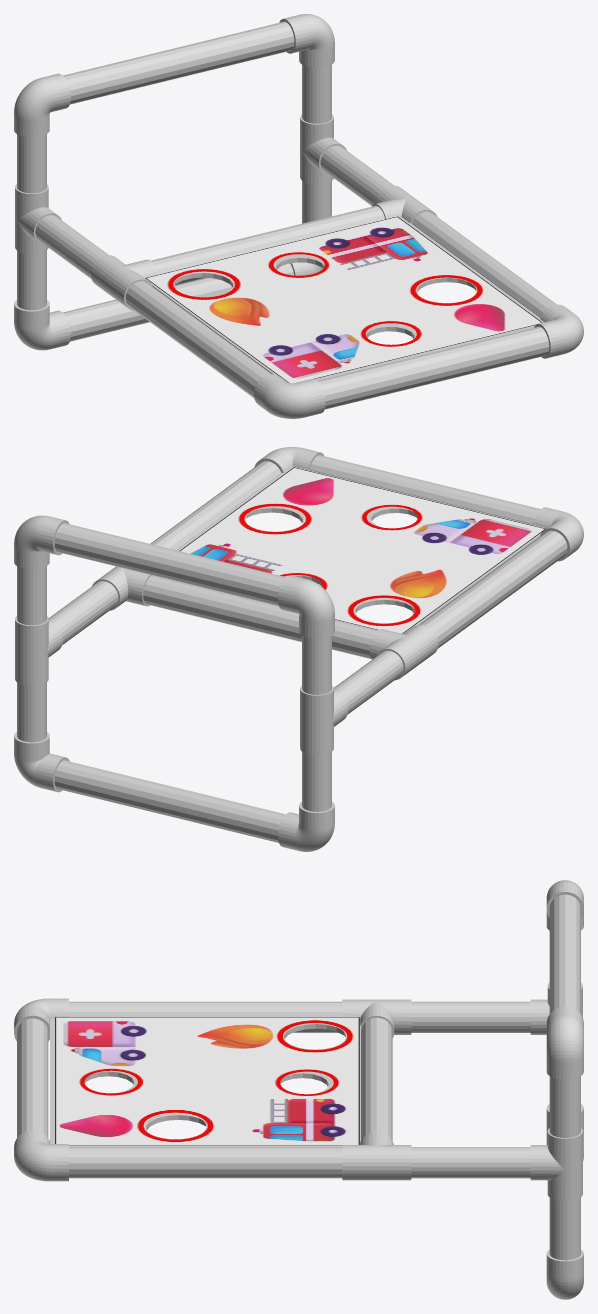
The picture shows the model from 3 angles, top to bottom: view 1: azimuth 30°, elevation 25°; view 2: azimuth 150°, elevation 25°; view 3: azimuth 270°, elevation 25°; orthographic projection. The views are drawn at different scales.
Visible parts, largest first — view 1: base_link, f9f56d69-75f4-4541-ab38-9738eeac5871; view 2: base_link, f9f56d69-75f4-4541-ab38-9738eeac5871; view 3: base_link, f9f56d69-75f4-4541-ab38-9738eeac5871.
Part boxes in pixels (<box>): base_link: <box>14,14,583,418</box>; f9f56d69-75f4-4541-ab38-9738eeac5871: <box>145,216,541,383</box>; base_link: <box>14,447,583,851</box>; f9f56d69-75f4-4541-ab38-9738eeac5871: <box>180,467,545,633</box>; base_link: <box>14,880,583,1299</box>; f9f56d69-75f4-4541-ab38-9738eeac5871: <box>55,1017,359,1145</box>.
Size of the model in its own units: 0.7356 by 0.5991 by 1.1.
Materials: 2 (1 with a texture image).
